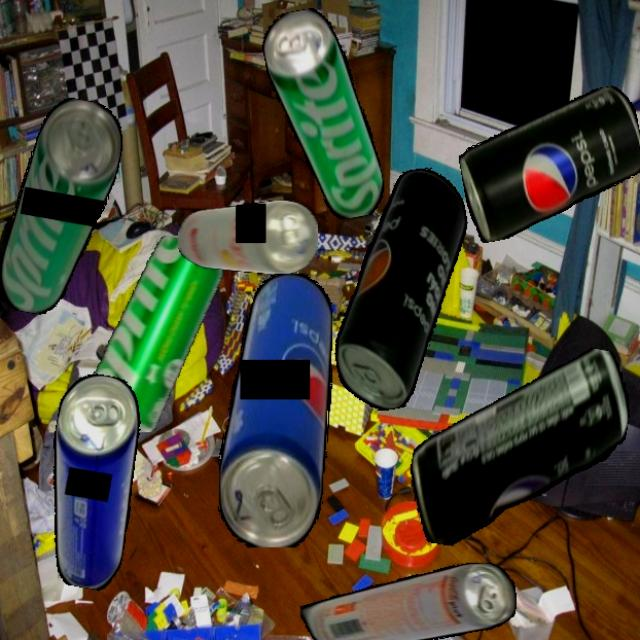debris: (399, 321, 639, 572), (307, 162, 497, 416), (217, 273, 332, 547), (451, 83, 640, 243), (0, 92, 129, 323), (258, 2, 388, 227), (84, 236, 226, 432), (30, 369, 152, 593), (299, 562, 516, 640), (177, 200, 318, 274)
